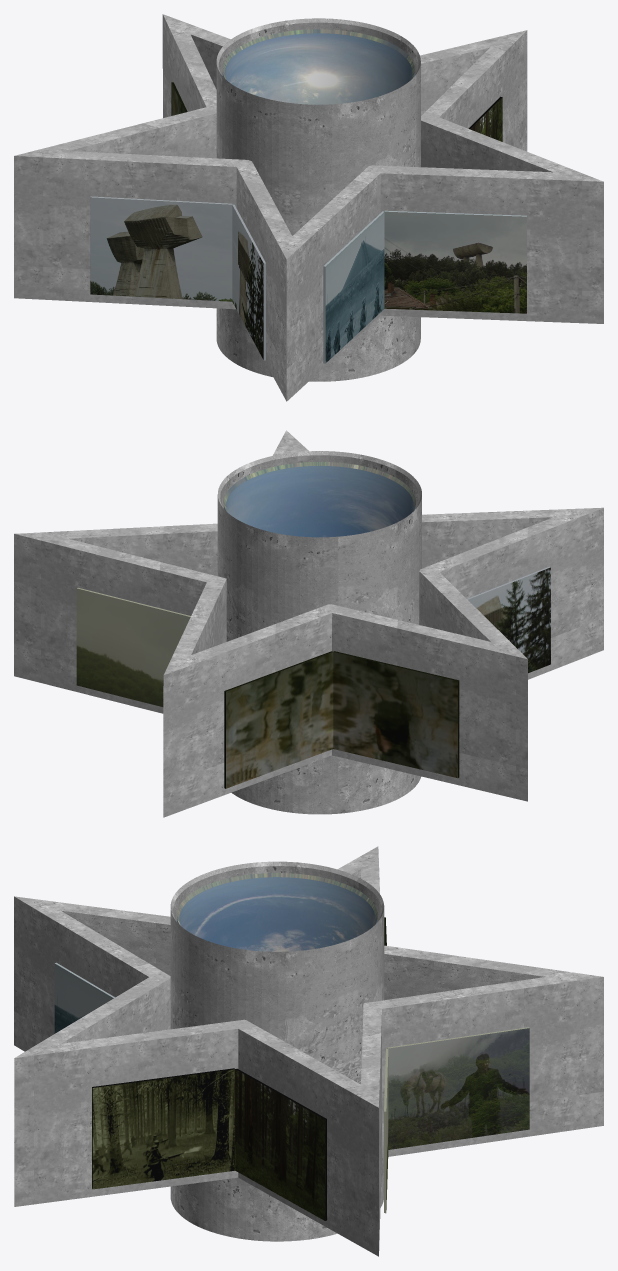
Rendered from mitrovica.glb.
The picture shows the model from 3 angles, top to bottom: view 1: azimuth 30°, elevation 25°; view 2: azimuth 150°, elevation 25°; view 3: azimuth 270°, elevation 25°; orthographic projection. The views are drawn at different scales.
Parts seen in each view (by area): view 1: TWE - 3D-Ansicht - 3D-Ansicht 4.001, Cylinder.002, videotarget, NIS, Cylinder.001, kozara; view 2: TWE - 3D-Ansicht - 3D-Ansicht 4.001, Cylinder.002, mostar, Cylinder.001, tjentiste, NIS; view 3: TWE - 3D-Ansicht - 3D-Ansicht 4.001, Cylinder.002, kozara, tjentiste, Cylinder.001, videotarget.
Part boxes in pixels (left/top/right/bottom): TWE - 3D-Ansicht - 3D-Ansicht 4.001: left=14, top=14, right=603, bottom=401; Cylinder.002: left=216, top=18, right=420, bottom=381; videotarget: left=323, top=210, right=526, bottom=363; NIS: left=90, top=196, right=265, bottom=360; Cylinder.001: left=222, top=29, right=414, bottom=104; kozara: left=468, top=96, right=502, bottom=141; TWE - 3D-Ansicht - 3D-Ansicht 4.001: left=14, top=430, right=603, bottom=817; Cylinder.002: left=217, top=451, right=421, bottom=814; mostar: left=224, top=651, right=459, bottom=788; Cylinder.001: left=224, top=462, right=415, bottom=537; tjentiste: left=76, top=587, right=190, bottom=706; NIS: left=467, top=566, right=550, bottom=673; TWE - 3D-Ansicht - 3D-Ansicht 4.001: left=14, top=846, right=603, bottom=1256; Cylinder.002: left=170, top=861, right=384, bottom=1241; kozara: left=92, top=1068, right=326, bottom=1220; tjentiste: left=384, top=1027, right=529, bottom=1213; Cylinder.001: left=177, top=873, right=377, bottom=951; videotarget: left=54, top=962, right=114, bottom=1033.
Size of the model in its own units: 13.96 by 7.2 by 13.28.
Materials: 8 (8 with a texture image).
